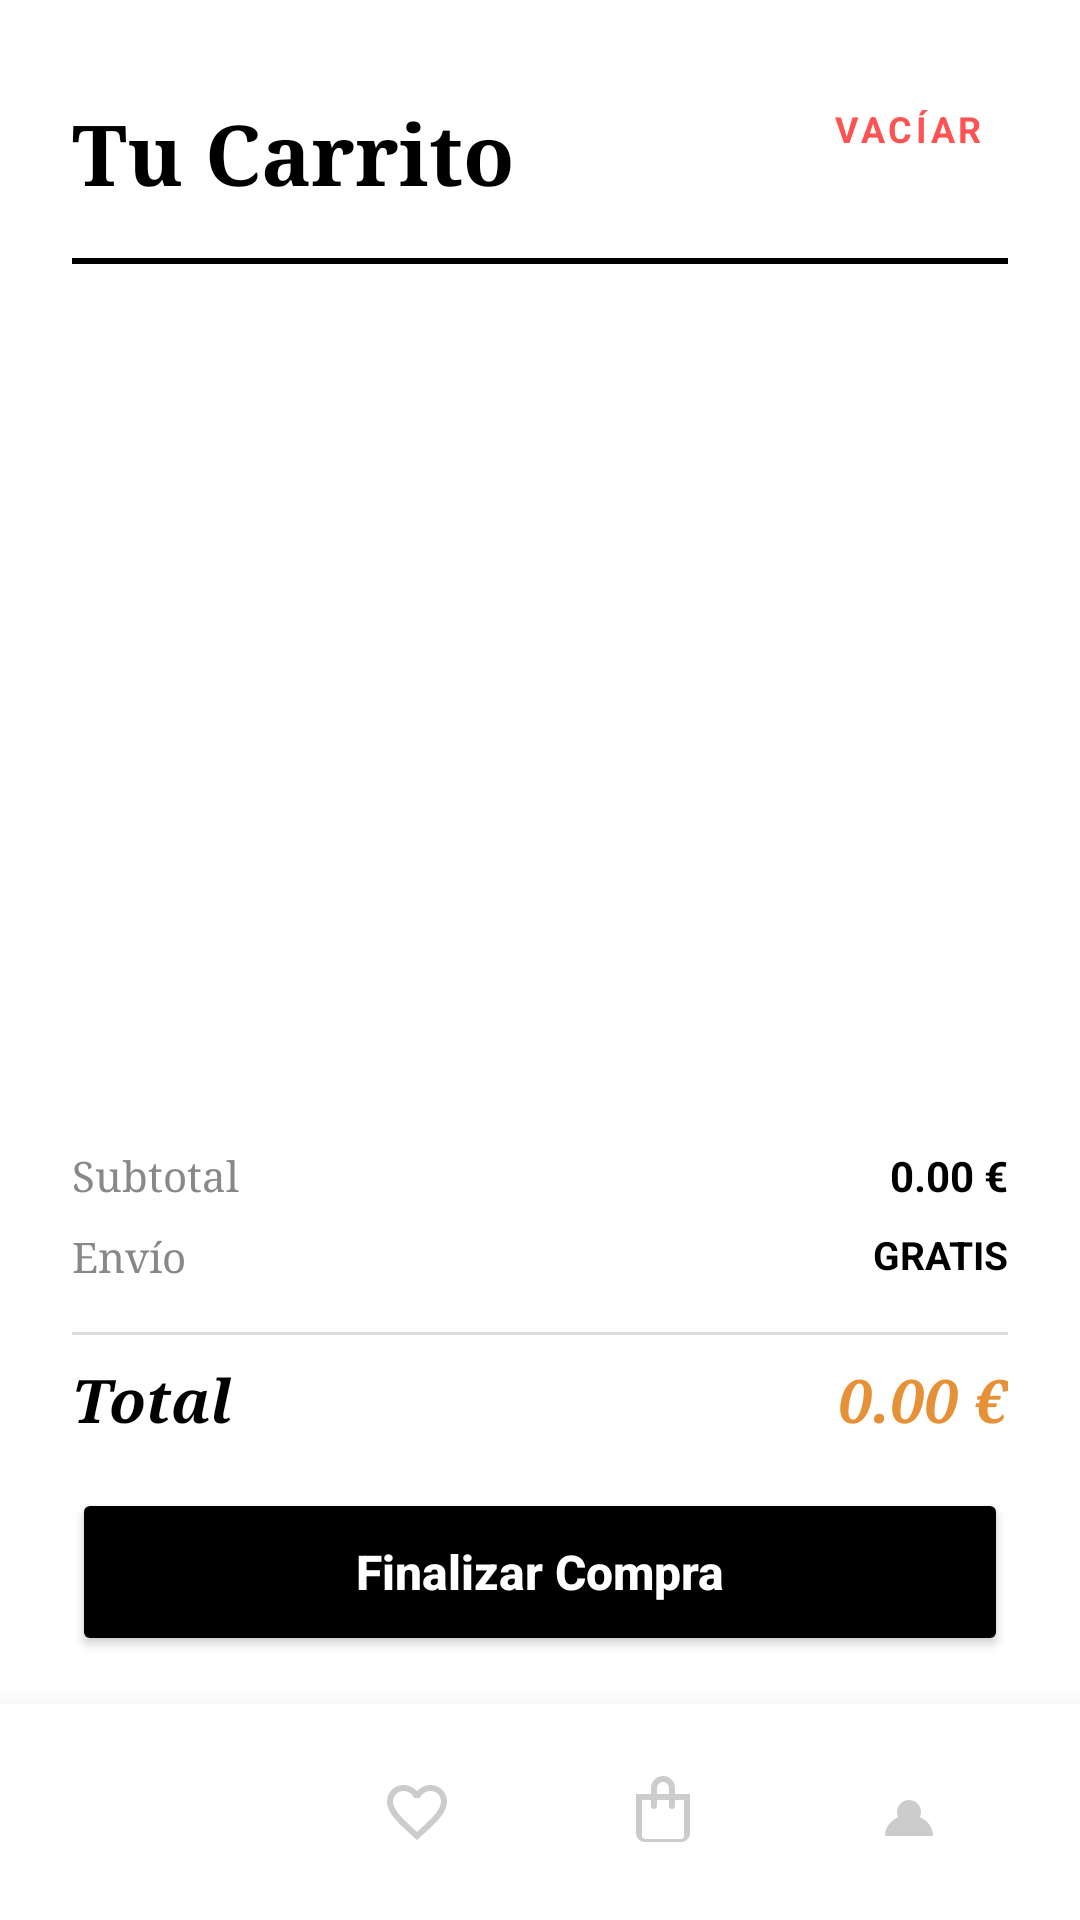

Icon click points for this 1080*1920 phone screenshot, format (x,y):
bag: (663,1809)
heart: (417,1812)
person: (909,1818)
